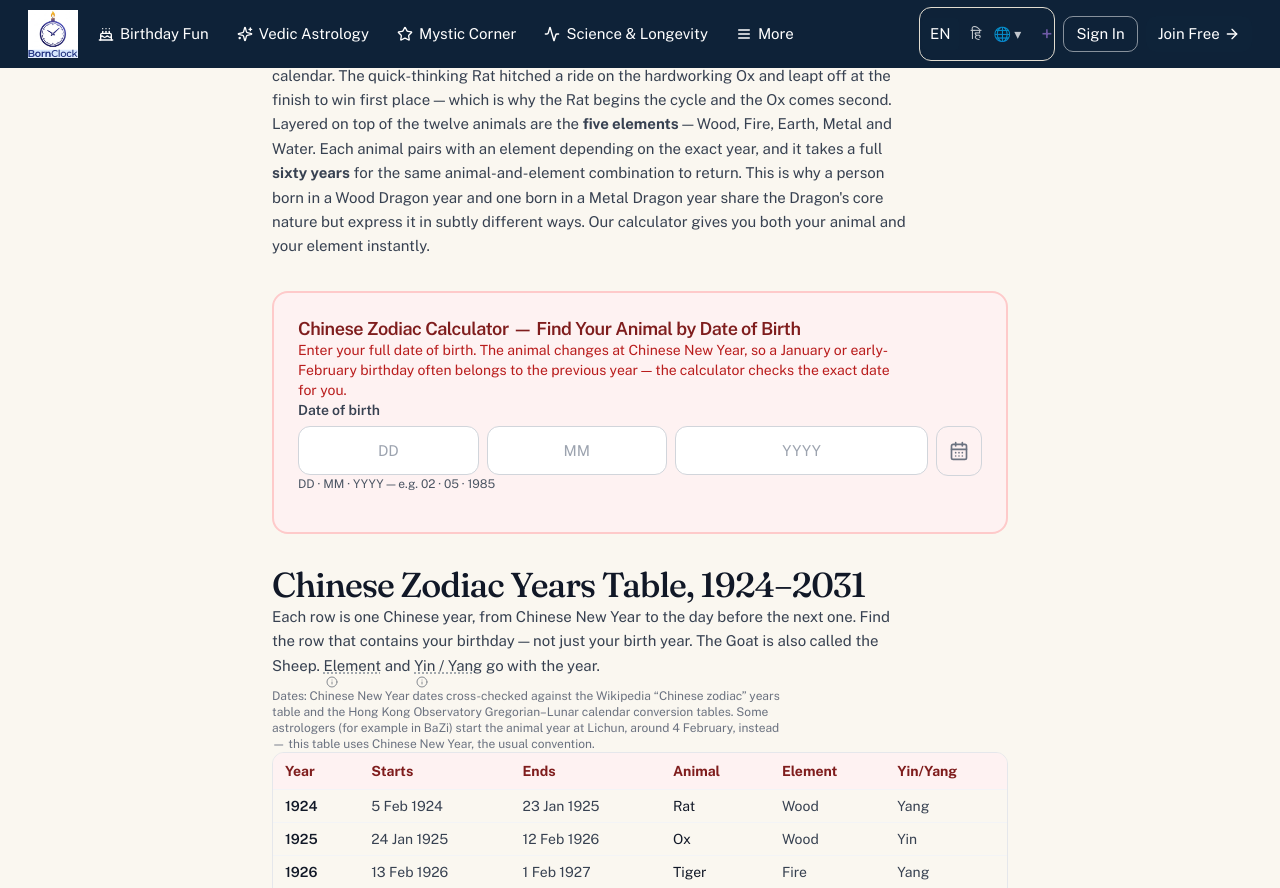
it: ChineseZodiacArticle › TC-CHZ-P-07: date of birth 15-06-1990 shows Horse
(page scrolled)
Type "15" into the field with id "cz-dob-day". click: (388, 451)
box: [298,426,479,475]
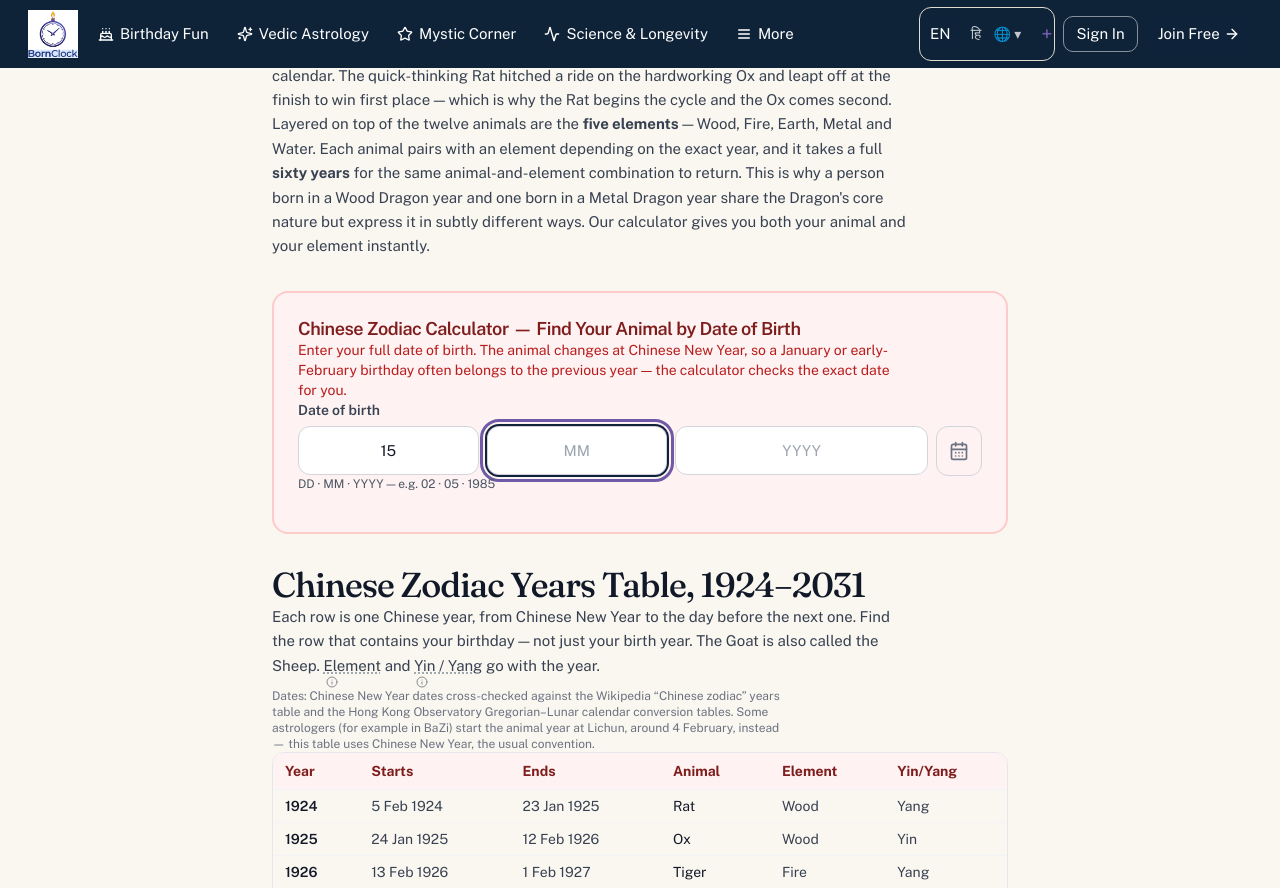
Type "06" into the field with id "cz-dob-month". click: (577, 451)
box: [487,426,667,475]
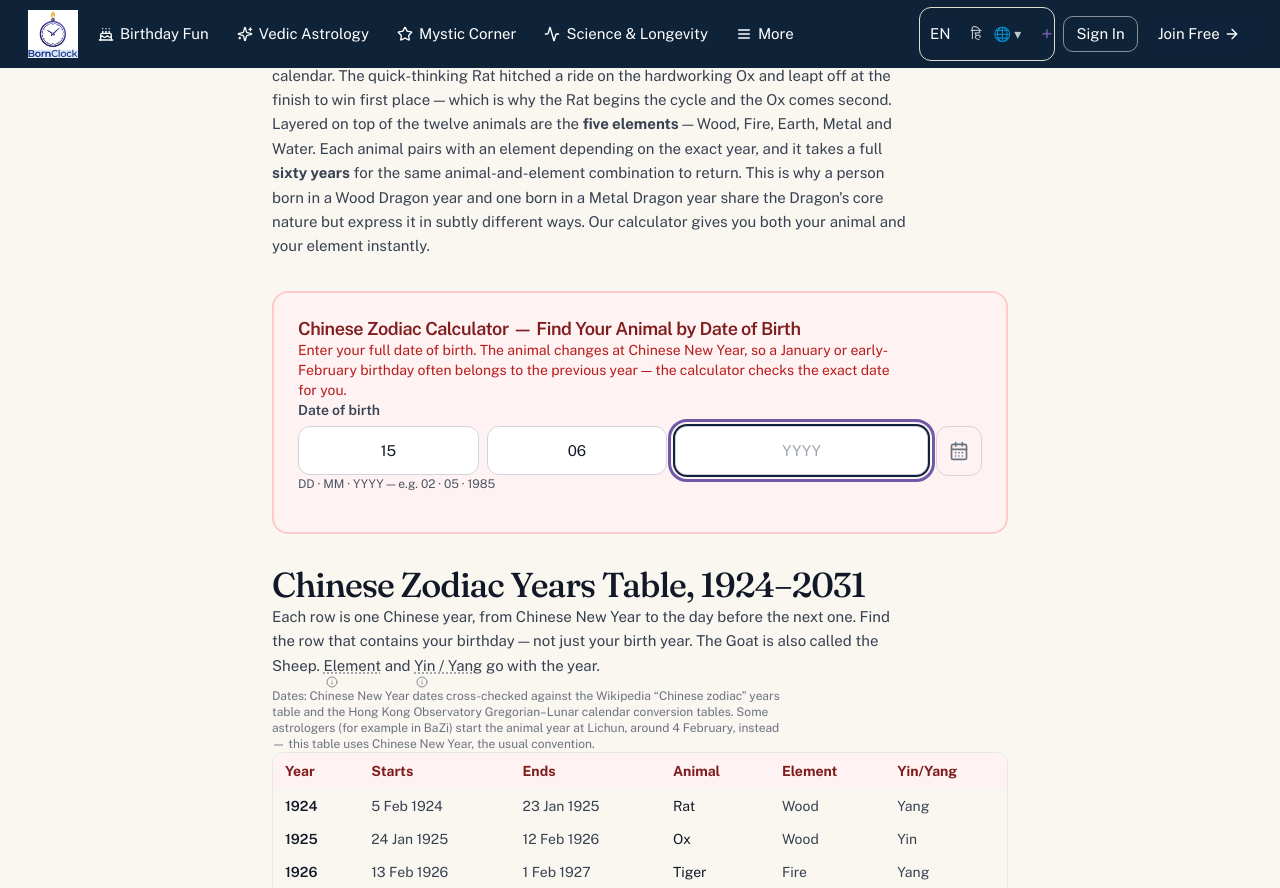
Type "1990" into the field with id "cz-dob-year". click: (802, 451)
box: [675,426,928,475]
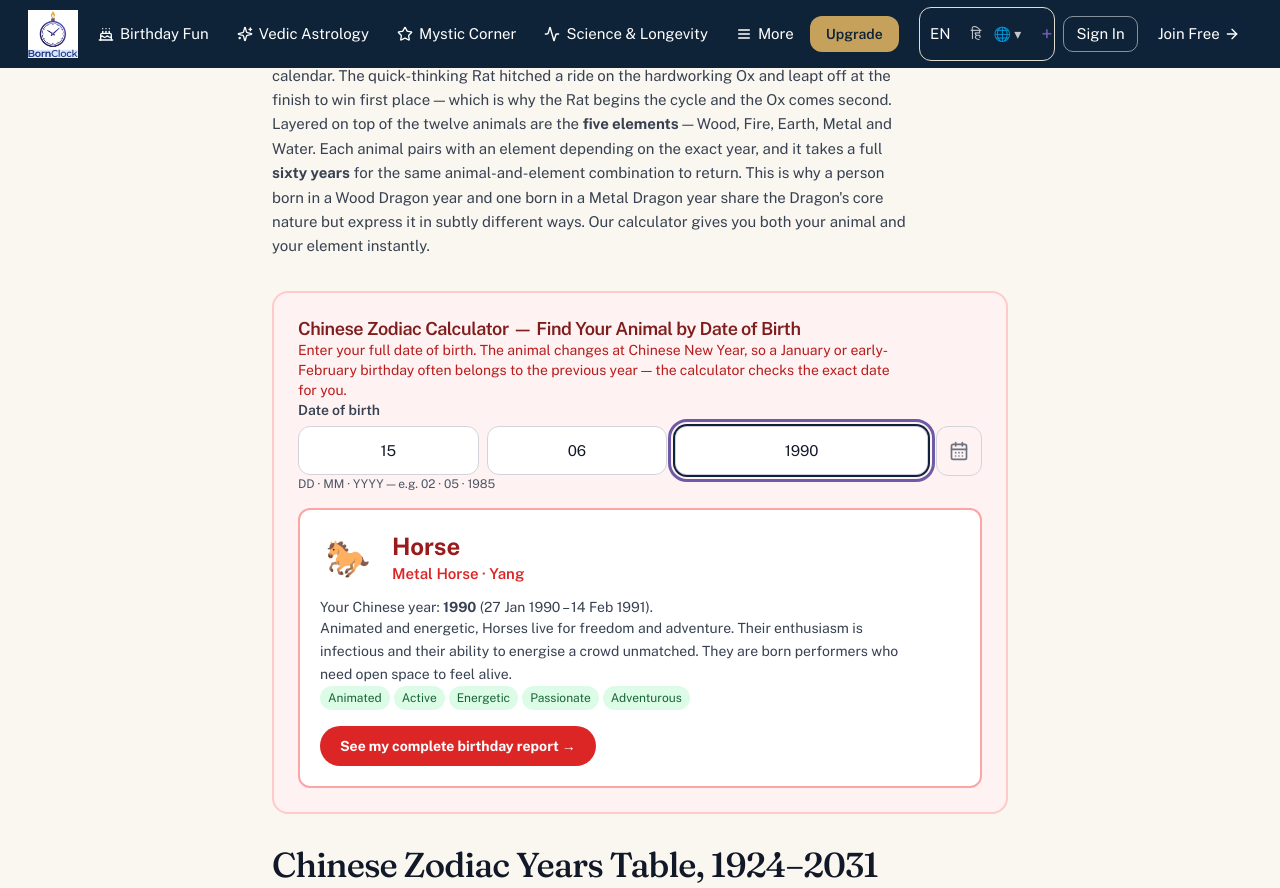
Now the element with test id "chinese-zodiac-result" shows "Horse", box [392,532,460,560]
